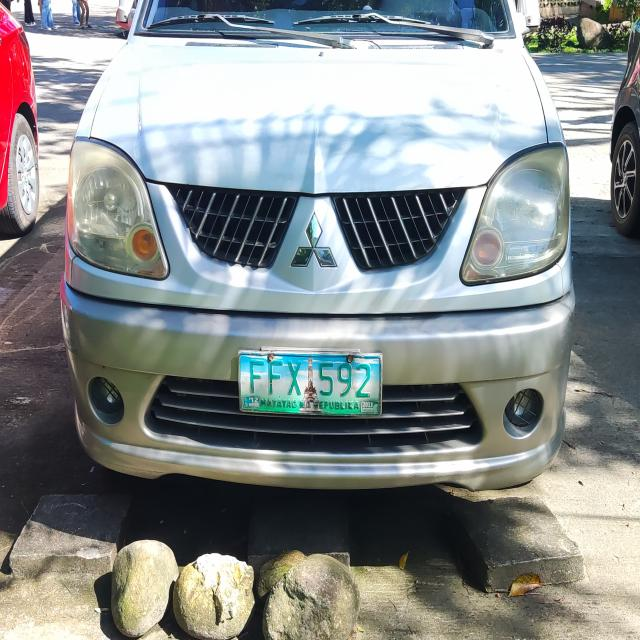plate: (233, 345, 387, 423)
